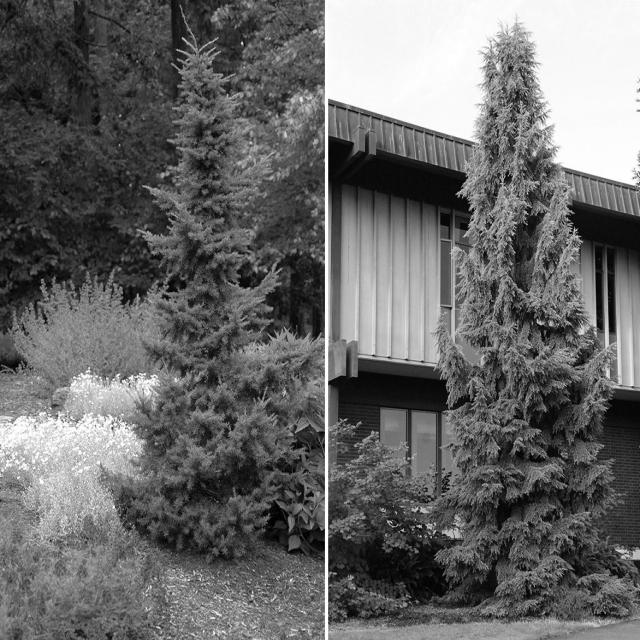Tsuga mertensiana: (106, 0, 308, 566), (449, 12, 622, 618)
